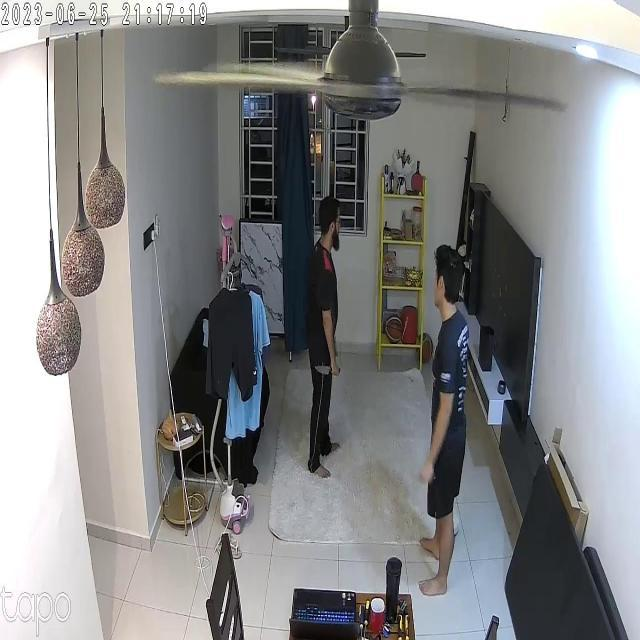Knife: (306, 353, 353, 391)
